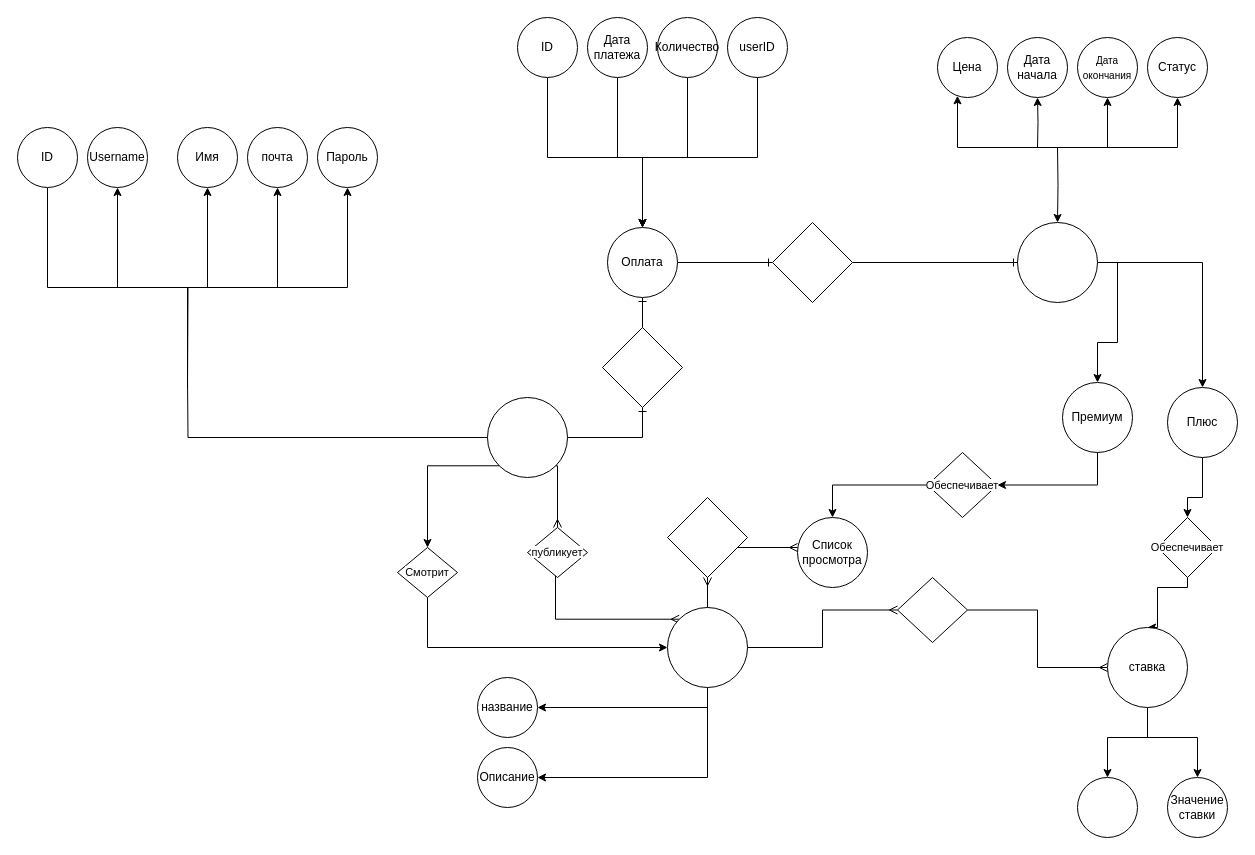
This 1255x855 diagram has some shape labels left out. Each missing label, with the centre of its shape:
"Видое" belongs at point 707,647.
"Имеет" belongs at point 932,609.
"Комментарии к отзывам" belongs at point 1107,807.
"План" belongs at point 1057,262.
"Подписаться" belongs at point 812,262.
"Пользователь" belongs at point 527,437.
"Сохранено в" belongs at point 707,537.
"Формат" belongs at point 642,367.
